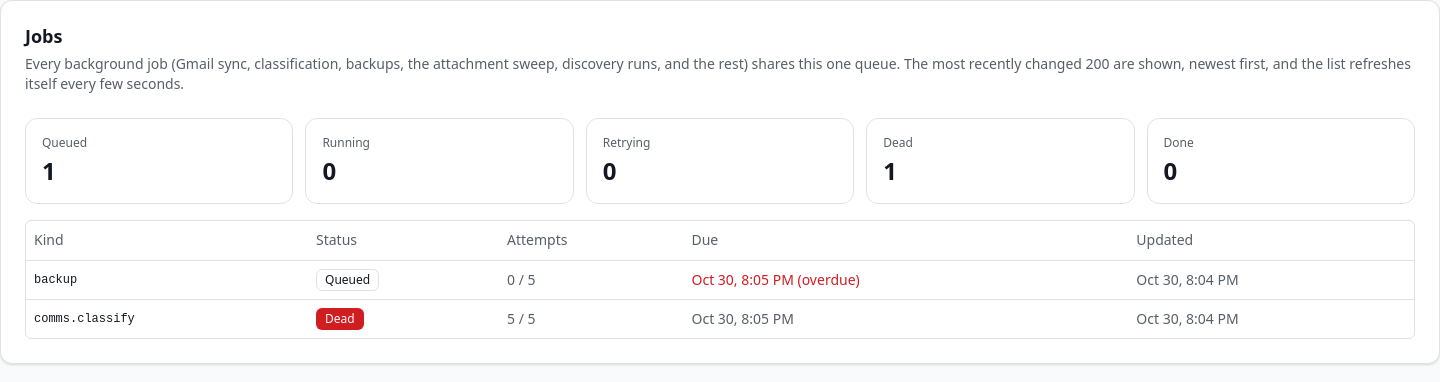
Test: JobsCard › filters the table to one status on click, and clears it on a second click
Check: the table named "Jobs" is shown, box 26,220 -> 1414,338
Click the button "Dead 1" at [898, 142], box 866,118 -> 1135,204
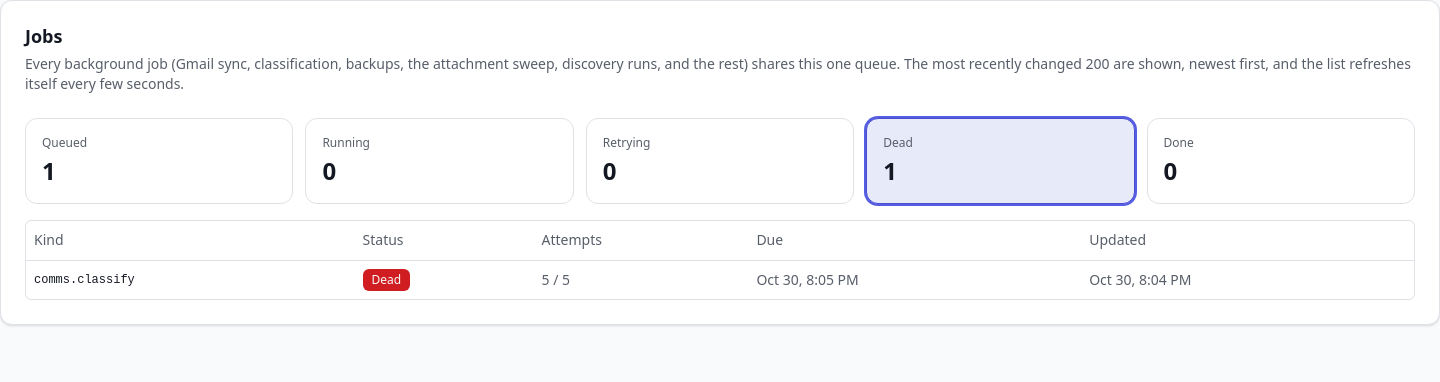
Check: the row "comms.classify Dead 5 / 5 Oct 30, 8:05 PM Oct 30, 8:04 PM" is shown, box 26,260 -> 1414,299
Click the button "Dead 1" at [898, 142], box 866,118 -> 1135,204
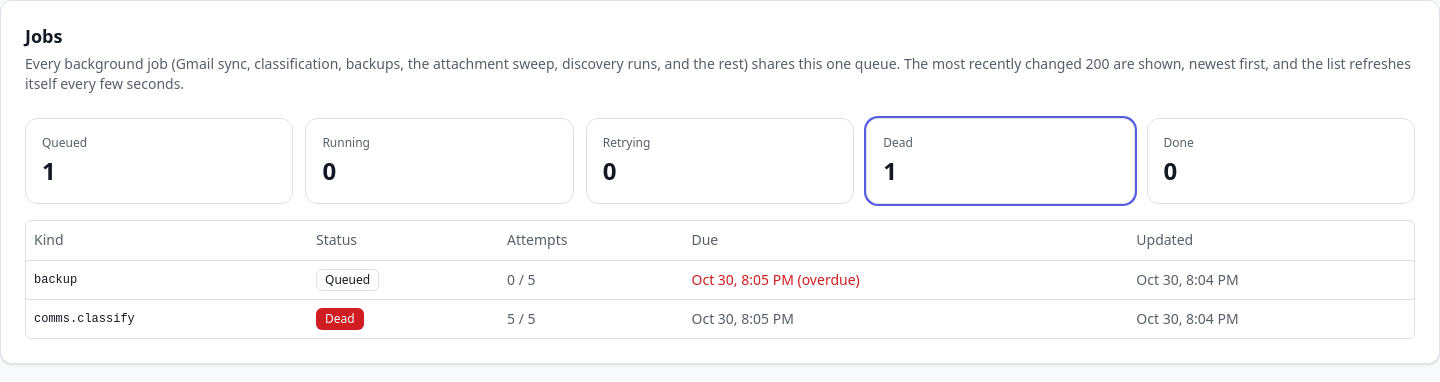
Check: the number of rows is 3, box 26,220 -> 1414,260; 26,260 -> 1414,300; 26,300 -> 1414,338
